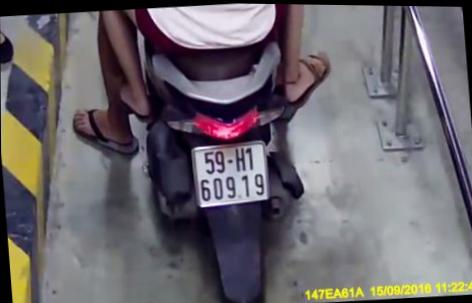LP: (191, 142, 269, 208)
